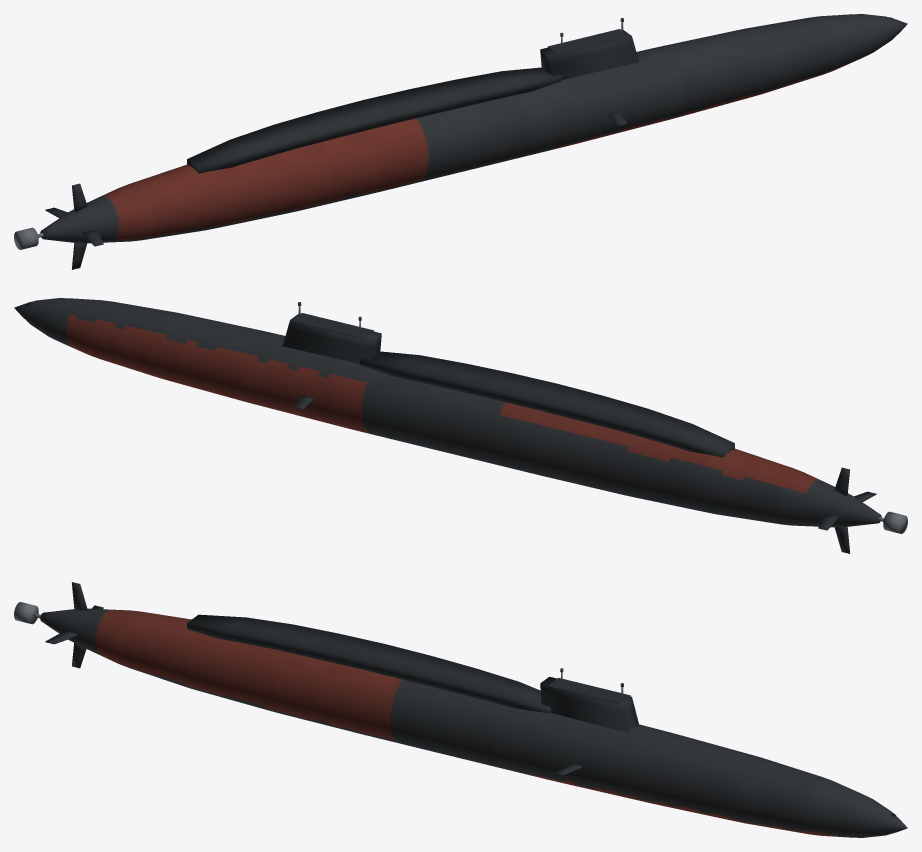
File: US_SSBN_Ohio.glb
The picture shows the model from 3 angles, top to bottom: view 1: azimuth 30°, elevation 25°; view 2: azimuth 150°, elevation 25°; view 3: azimuth 330°, elevation 25°; orthographic projection.
Visible parts, largest first — view 1: US_SSBN_Ohio_LOD0; view 2: US_SSBN_Ohio_LOD0; view 3: US_SSBN_Ohio_LOD0.
Boxes of the visible parts, x1,y1,x2,y2 form: US_SSBN_Ohio_LOD0: (14,14,907,269); US_SSBN_Ohio_LOD0: (14,298,907,553); US_SSBN_Ohio_LOD0: (14,582,907,837).
Bounding box in the file's own units: 175 × 21.93 × 21.95.
Materials: 6 (1 with a texture image).
